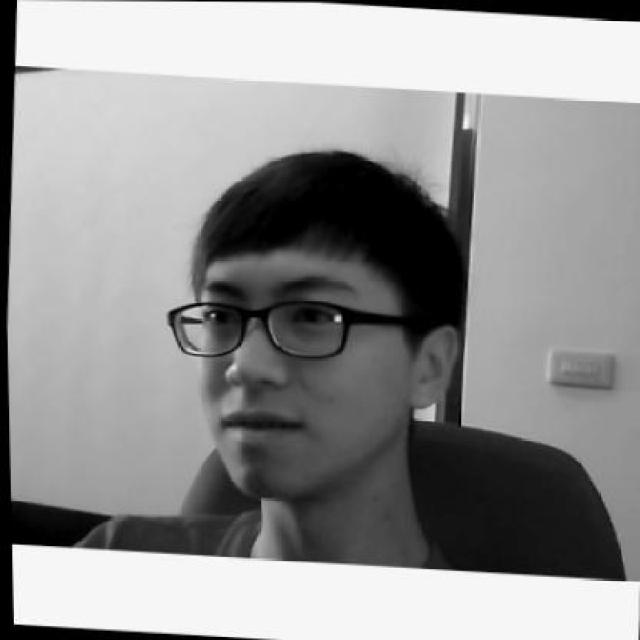attentif: (152, 139, 468, 506)
